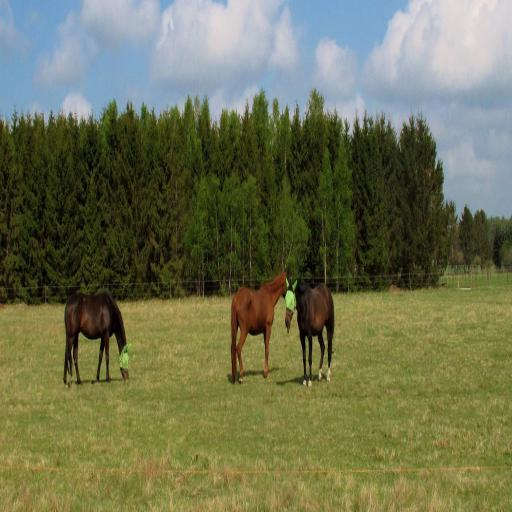horse: (63, 289, 131, 387), (228, 271, 287, 383), (286, 275, 334, 391)
